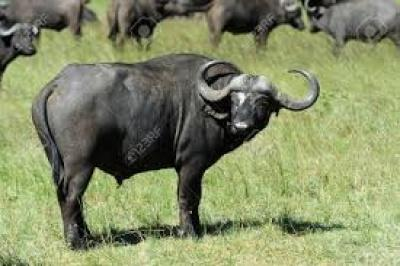buffalo: (30, 53, 321, 251)
